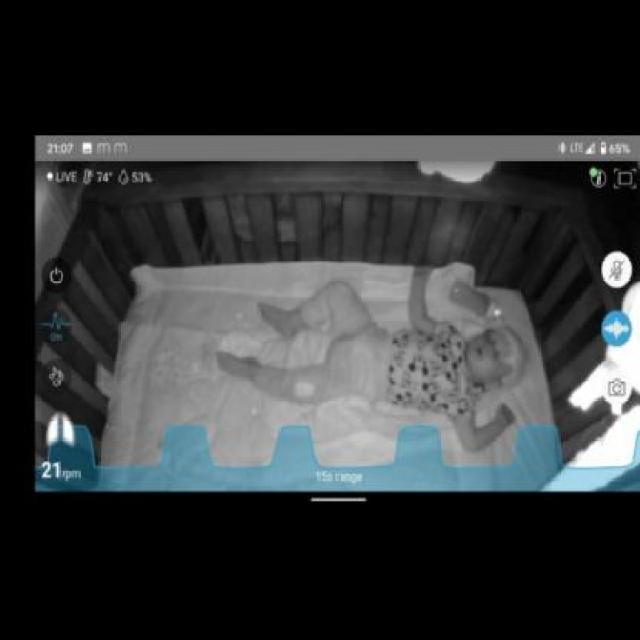baby: (212, 258, 534, 457)
